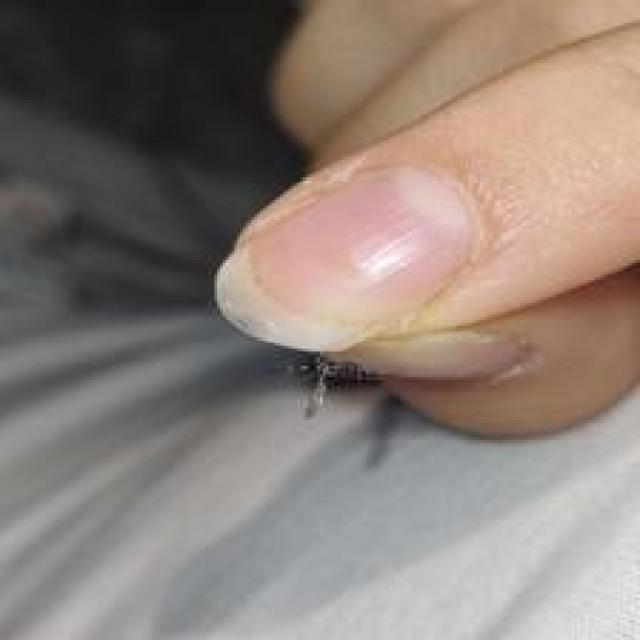Aedes albopictus: (284, 350, 384, 419)
